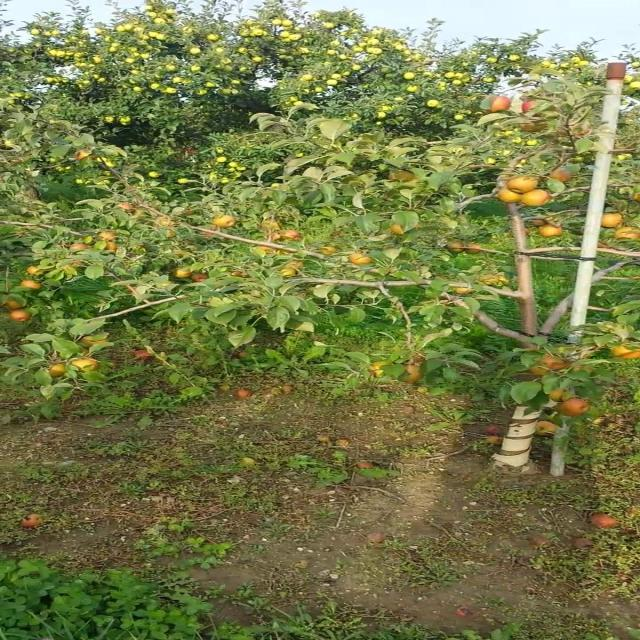apple: (561, 400, 590, 416), (525, 192, 553, 208), (497, 188, 521, 204), (547, 356, 571, 371), (490, 96, 512, 112), (511, 180, 539, 192), (404, 368, 425, 384), (611, 348, 639, 360), (390, 172, 418, 183), (554, 168, 574, 183), (84, 336, 108, 348), (212, 216, 235, 228), (77, 360, 100, 372), (604, 216, 626, 228), (49, 364, 71, 376), (255, 244, 277, 256), (20, 280, 43, 291), (390, 224, 411, 236), (618, 228, 638, 240), (611, 64, 626, 80), (13, 312, 32, 324), (518, 124, 546, 132), (540, 228, 562, 238), (355, 252, 373, 264), (6, 300, 25, 311), (532, 364, 549, 376), (547, 392, 567, 402), (468, 244, 484, 256), (177, 268, 192, 280), (134, 352, 153, 361), (454, 288, 475, 296), (319, 248, 340, 256), (447, 244, 464, 253), (483, 276, 500, 285), (70, 244, 89, 252), (284, 268, 299, 278), (99, 232, 116, 240), (284, 232, 300, 240), (532, 220, 548, 228), (525, 100, 535, 112), (28, 268, 43, 276), (120, 204, 135, 212), (376, 364, 386, 376), (291, 260, 306, 268), (77, 152, 91, 160), (269, 232, 281, 241), (106, 244, 119, 252), (191, 276, 208, 282), (163, 280, 174, 288), (205, 232, 217, 239), (163, 232, 178, 236)
